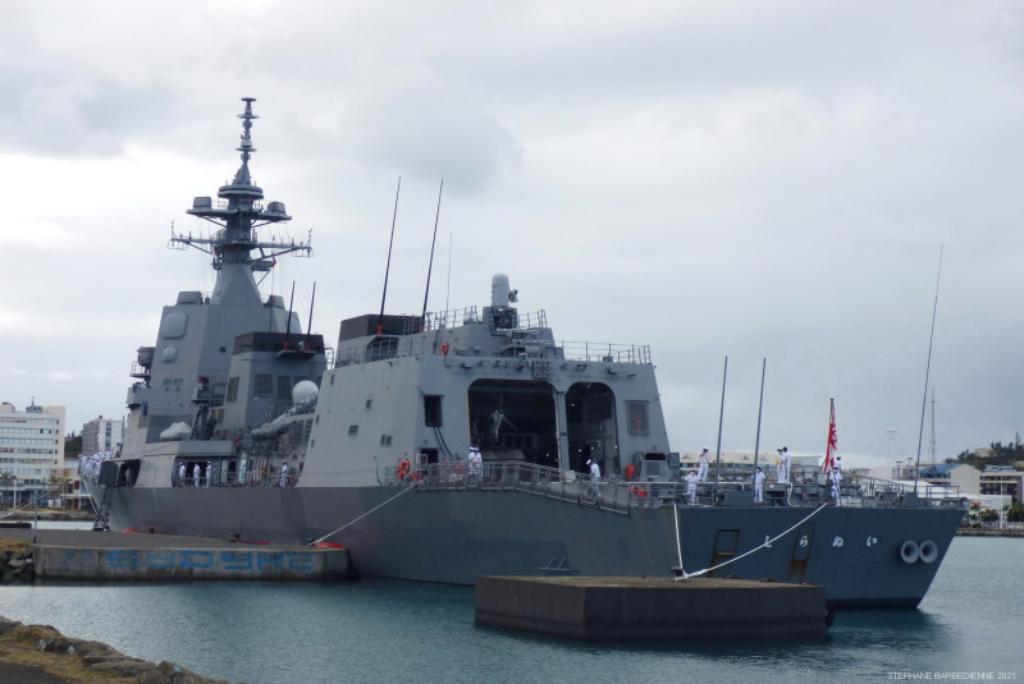Warship: (69, 91, 965, 612)
